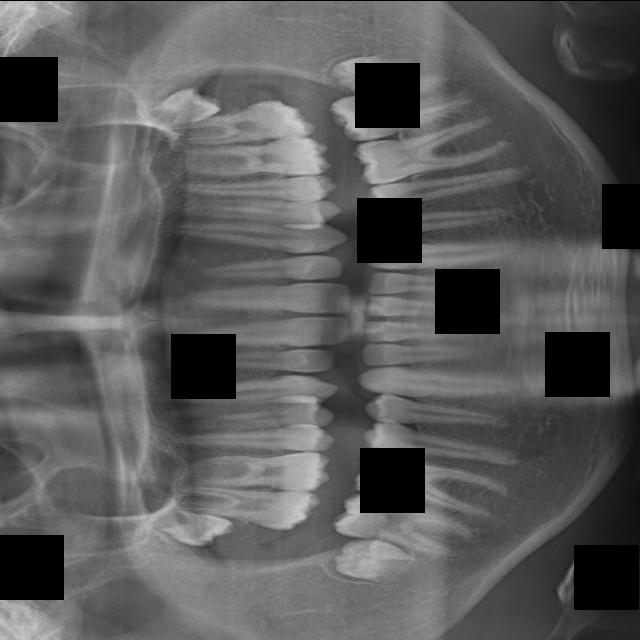3M ESPE Implant: (143, 506, 237, 552)
AGS Medikal Implant: (188, 255, 345, 279)
AMerOss Implant: (266, 221, 267, 222)
Amalgam filling: (285, 200, 286, 201)
Anthogyr Implant: (178, 174, 337, 198)
Bicon Implant: (181, 135, 331, 183)
BioHorizons Implant: (161, 94, 317, 151)
BioLife Implant: (143, 79, 226, 127)
Biomet 3i Implant: (326, 38, 425, 99)
Blue Sky Bio Implant: (326, 62, 479, 150)
Camlog Implant: (350, 111, 515, 189)
Caries: (166, 483, 322, 532)
Composite filling: (363, 161, 538, 215)
Cowellmedi Implant: (368, 200, 523, 242)
Crown: (362, 241, 518, 269)
DENTSPLY Implant: (365, 266, 480, 294)
Dentatus Implant: (364, 292, 460, 316)
Dentis Implant: (361, 320, 463, 344)
Dentium Implant: (360, 343, 479, 365)
Euroteknika Implant: (355, 363, 517, 406)
Filling: (362, 393, 515, 439)
Frontier Implant: (392, 452, 393, 452)
Hiossen Implant: (188, 452, 330, 491)
Implant: (393, 544, 394, 544)
Implant Direct: (350, 447, 512, 522)
Keystone Dental Implant: (330, 534, 422, 591)
MIS Implant: (166, 427, 335, 450)
Mandible: (186, 403, 334, 428)
Maxilla: (164, 373, 339, 405)
Megagen Implant: (193, 346, 335, 372)
Neodent Implant: (178, 314, 351, 351)
Neoss Implant: (176, 276, 354, 314)
